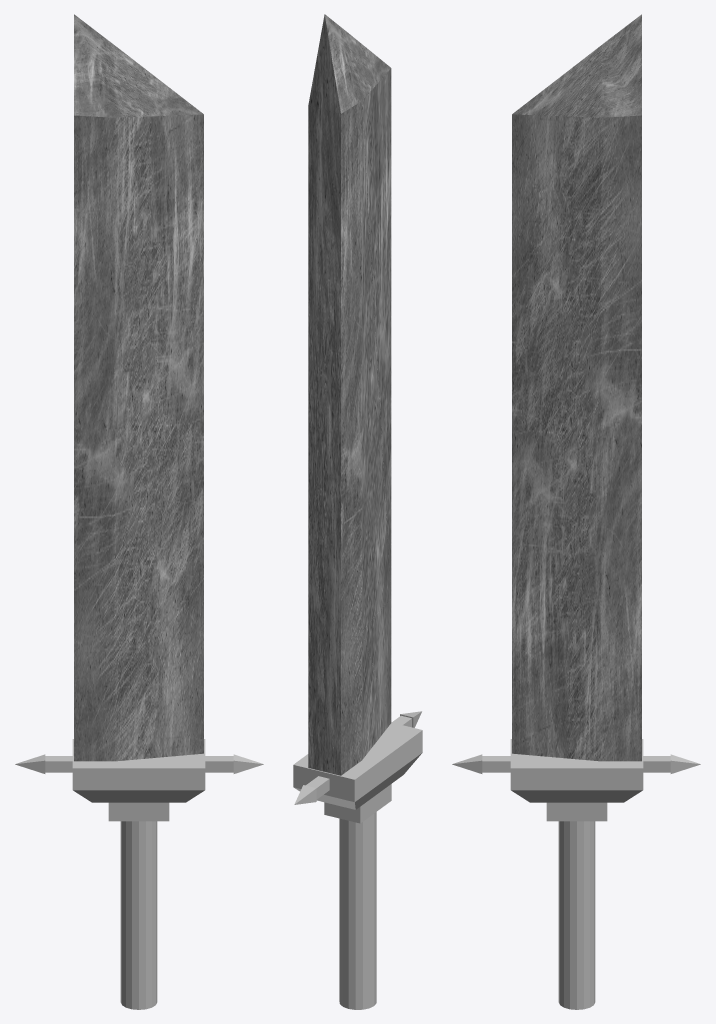
File: PalashTextur.obj
The picture shows the model from 3 angles, left to right: view 1: azimuth 90°, elevation 25°; view 2: azimuth 150°, elevation 25°; view 3: azimuth 270°, elevation 25°; orthographic projection. The views are drawn at different scales.
Parts seen in each view (by area): view 1: Куб.002, Цилиндр, Куб.001, Куб; view 2: Куб.002, Цилиндр, Куб.001, Куб, Куб.006; view 3: Куб.002, Цилиндр, Куб.001, Куб.
Boxes of the visible parts, x1,y1,x2,y2 form: Куб.002: (74, 14, 203, 761); Цилиндр: (120, 821, 157, 1009); Куб.001: (72, 739, 205, 802); Куб: (108, 802, 169, 821); Куб.002: (308, 14, 391, 775); Цилиндр: (339, 812, 376, 1009); Куб.001: (293, 722, 422, 809); Куб: (324, 784, 391, 823); Куб.006: (294, 785, 316, 804); Куб.002: (512, 14, 641, 761); Цилиндр: (558, 821, 595, 1009); Куб.001: (510, 739, 643, 802); Куб: (546, 802, 607, 821).
Bounding box in the file's own units: 0.3042 × 4.78 × 1.1.
Materials: 2 (1 with a texture image).
